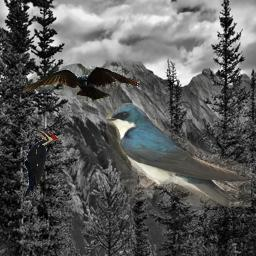Crow: (25, 66, 141, 106)
Swallow: (106, 103, 251, 207)
Woodpecker: (24, 128, 60, 196)
